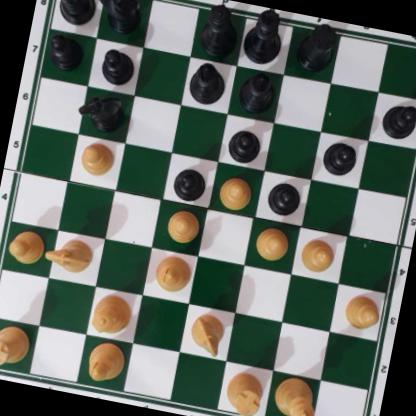black-bishop: (185, 59, 230, 108), (237, 70, 280, 117)
black-king: (242, 6, 287, 69)
black-knight: (91, 0, 148, 39), (79, 91, 126, 136)
black-pawn: (45, 31, 86, 72), (320, 137, 360, 178), (98, 44, 136, 87), (265, 177, 304, 218), (227, 123, 265, 165), (380, 99, 416, 142), (171, 163, 209, 203)
black-queen: (195, 1, 244, 59)
black-rook: (292, 18, 343, 77), (47, 0, 101, 28)
white-bishop: (84, 338, 126, 386), (153, 251, 195, 294)
white-king: (268, 373, 322, 416)
white-knight: (41, 233, 97, 279), (186, 310, 229, 358)
white-pawn: (340, 290, 383, 334), (77, 137, 119, 180), (298, 232, 339, 276), (253, 223, 291, 263), (7, 228, 48, 265), (216, 173, 255, 211), (164, 206, 202, 245)
white-queen: (90, 289, 134, 340)
white-rook: (222, 370, 268, 416), (0, 320, 33, 371)
